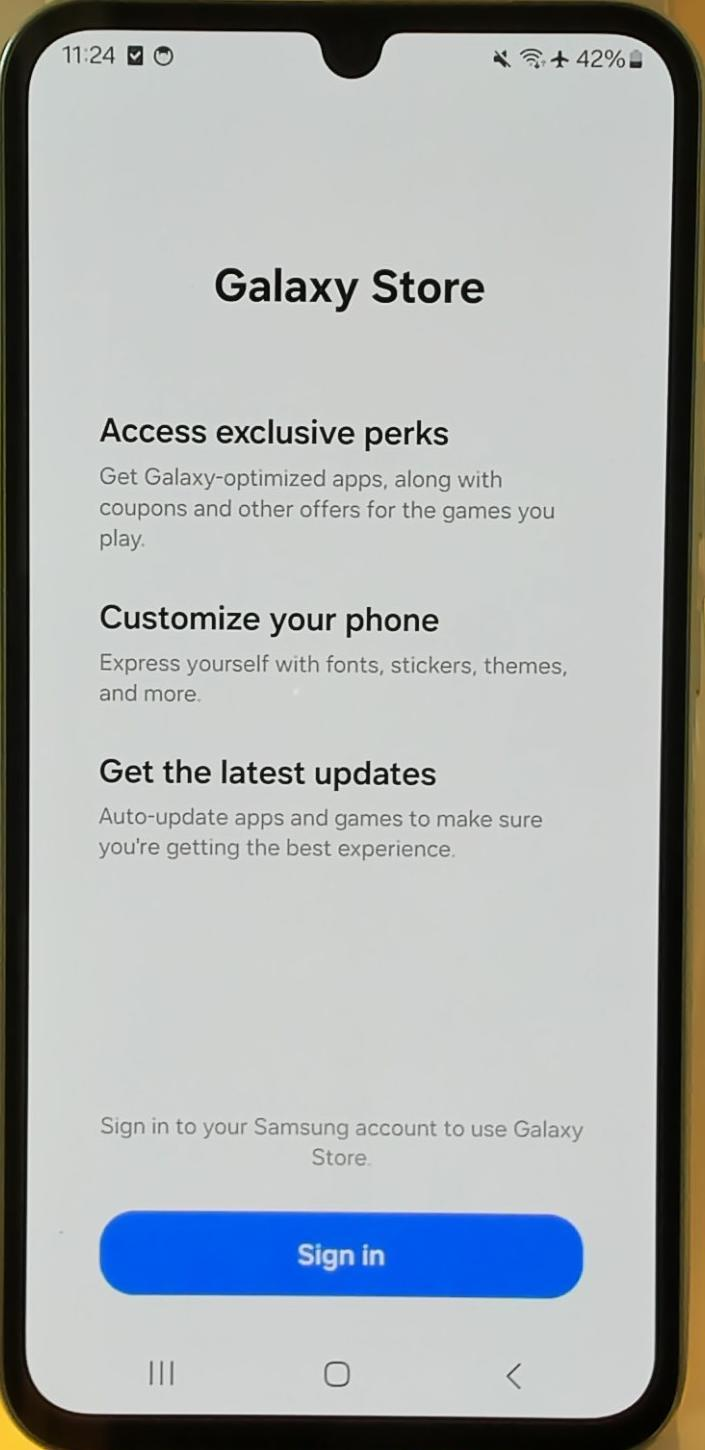CommunBotton: (99, 1209, 587, 1304), (142, 1351, 180, 1394), (498, 1349, 533, 1395), (318, 1355, 355, 1393)
